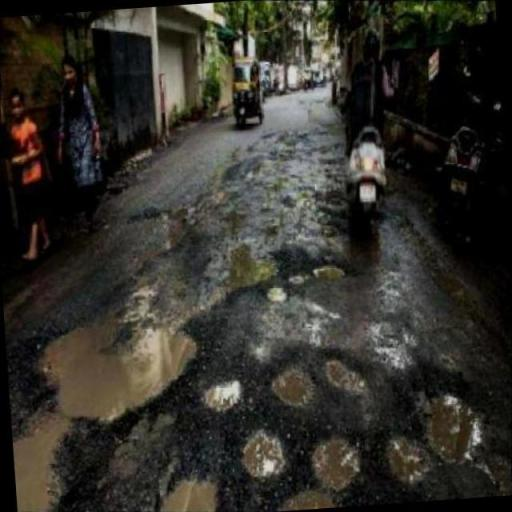pothole: (12, 326, 196, 512), (424, 395, 480, 463), (311, 438, 360, 491), (384, 435, 432, 488), (241, 429, 283, 483), (158, 480, 215, 512), (272, 365, 316, 405), (274, 486, 336, 511), (326, 359, 365, 395), (205, 379, 242, 413), (312, 264, 346, 282), (267, 286, 288, 303)
